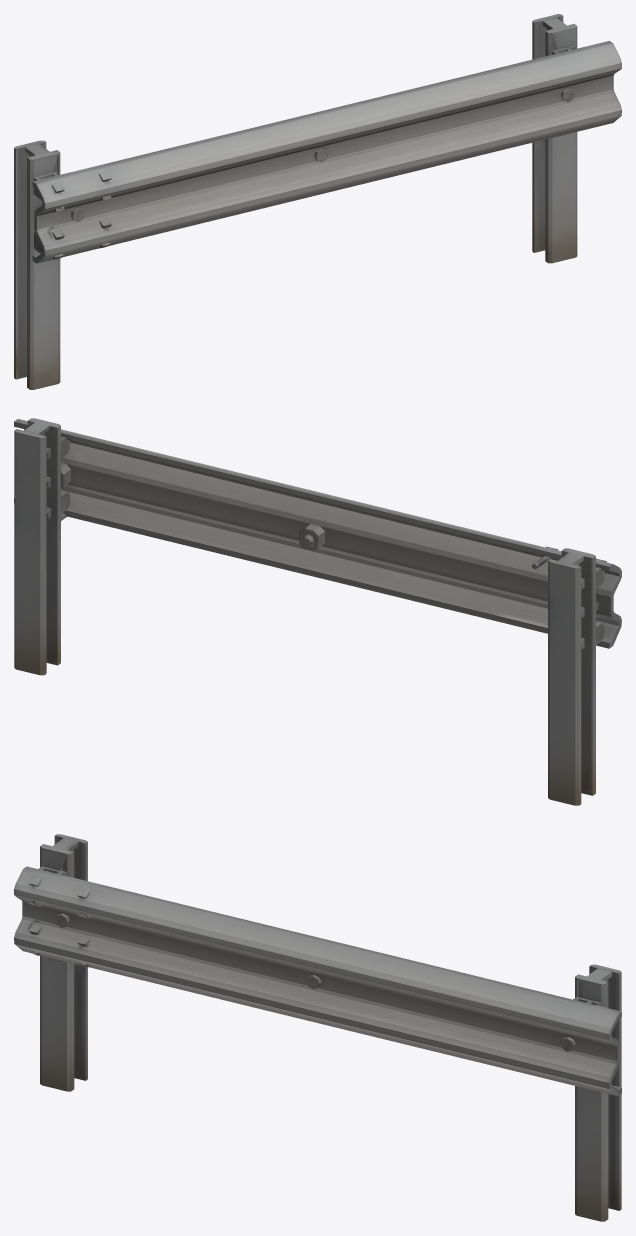
3 renders of one model, top to bottom at view 1: azimuth 30°, elevation 25°; view 2: azimuth 150°, elevation 25°; view 3: azimuth 330°, elevation 25°, orthographic. The views are drawn at different scales.
Parts seen in each view (by area): view 1: texture_pbr_v128; view 2: texture_pbr_v128; view 3: texture_pbr_v128.
Part boxes in pixels (x1,y1,x2,y2): texture_pbr_v128: (14, 14, 621, 389); texture_pbr_v128: (14, 418, 621, 805); texture_pbr_v128: (14, 834, 621, 1221).
Bounding box in the file's own units: 1.13 × 0.4322 × 0.1272.
Materials: 1 (1 with a texture image).
